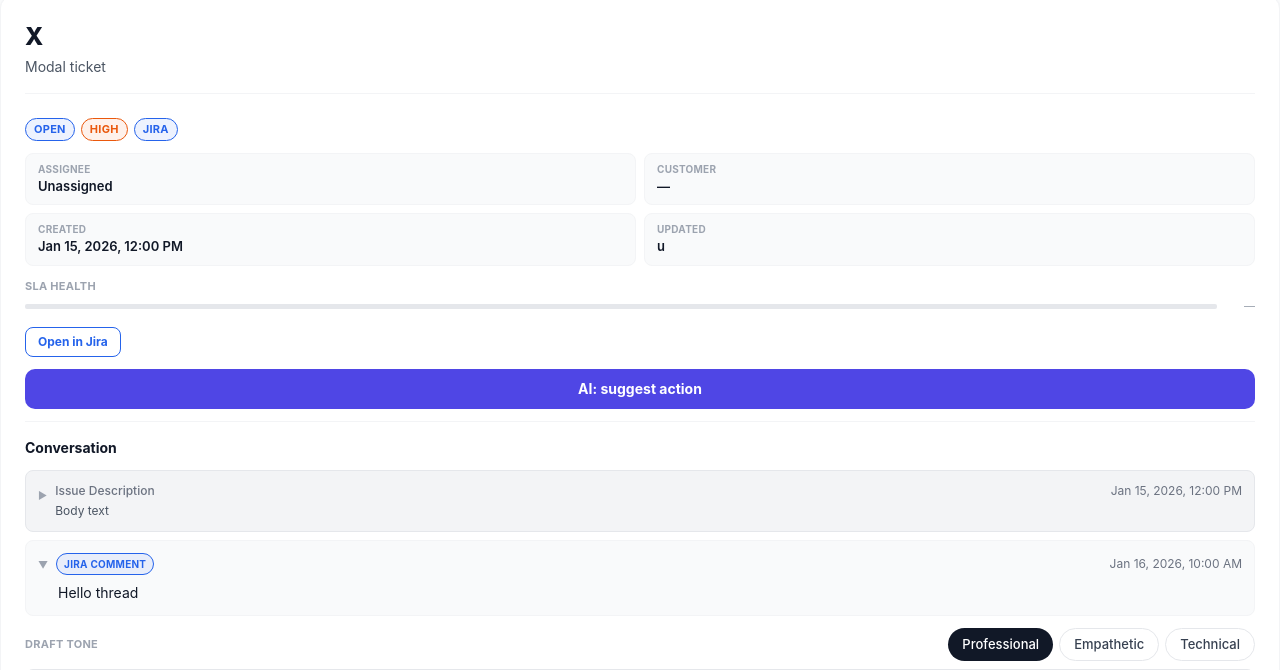
TicketDetailContent › drafts comment with selected tone
The width and height of the screenshot is (1280, 670).
Click the button "Technical".
click(1210, 644)  # box left=1165, top=628, right=1255, bottom=661
(page scrolled)
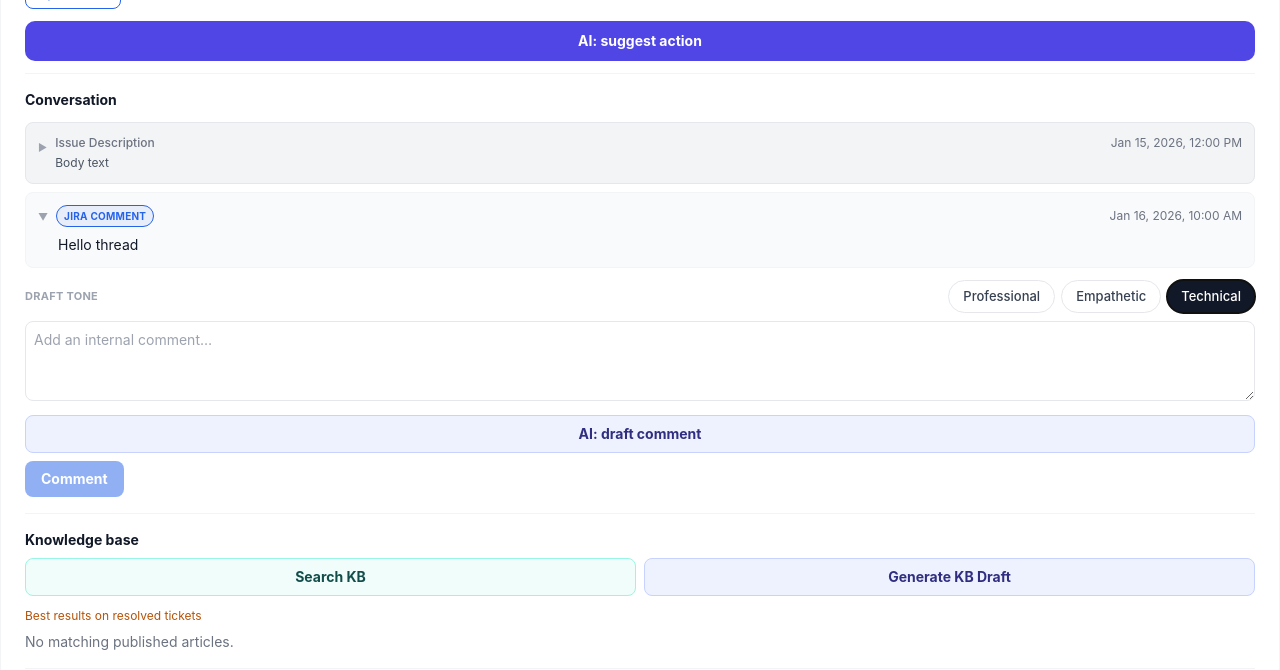
Click the button "AI: draft comment".
click(640, 434)  # box left=25, top=415, right=1255, bottom=453
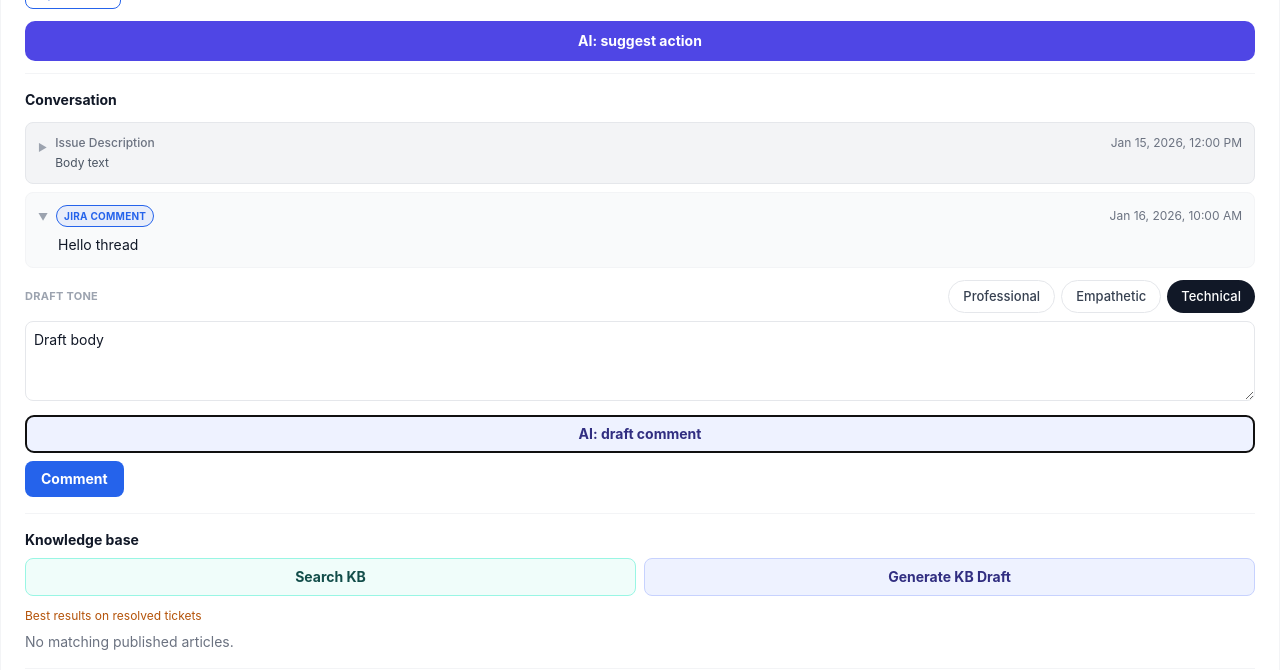
Result: the text box with placeholder "Add an internal comment…" holds "Draft body" at left=25, top=321, right=1255, bottom=401
